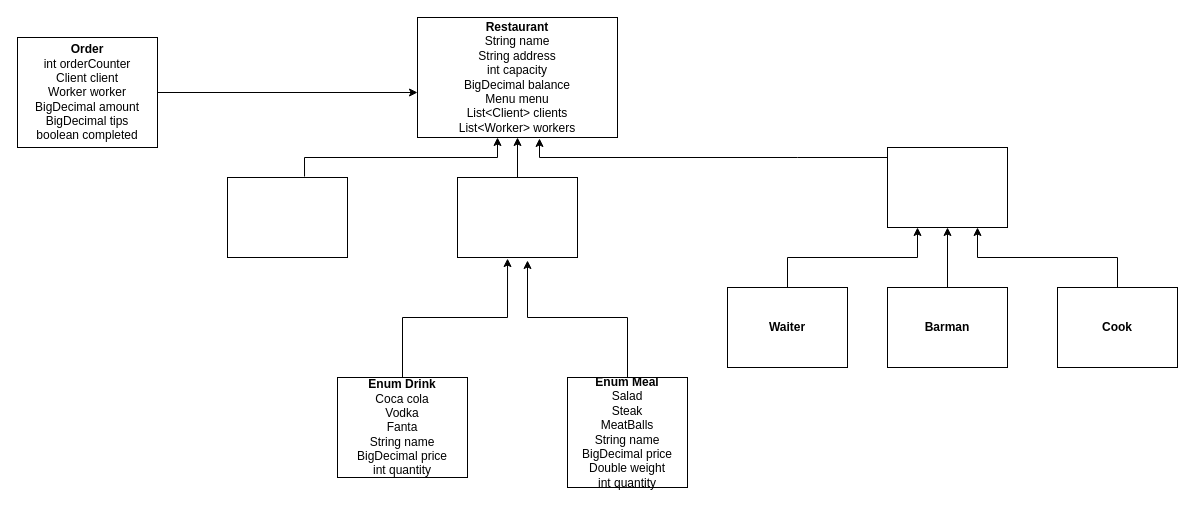
Some shapes in this 1195 by 507 pixel diagram are drawn without their labels. Here are the shapes that lost their labels. From the top down, the box of each, then its label:
(886, 146, 1008, 228): Abs Worker String name BigDecimal salary BigDecimal tips
(226, 176, 348, 258): Client String name BigDecimal balance List<Meal> meals List<Drink> drinks
(456, 176, 578, 258): Menu List<Meal> meals List<Drink> drinks
